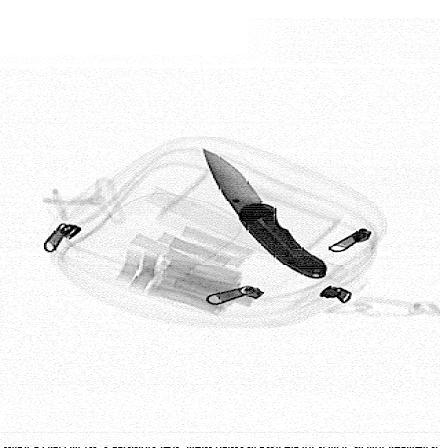Knife: (202, 147, 329, 280)
